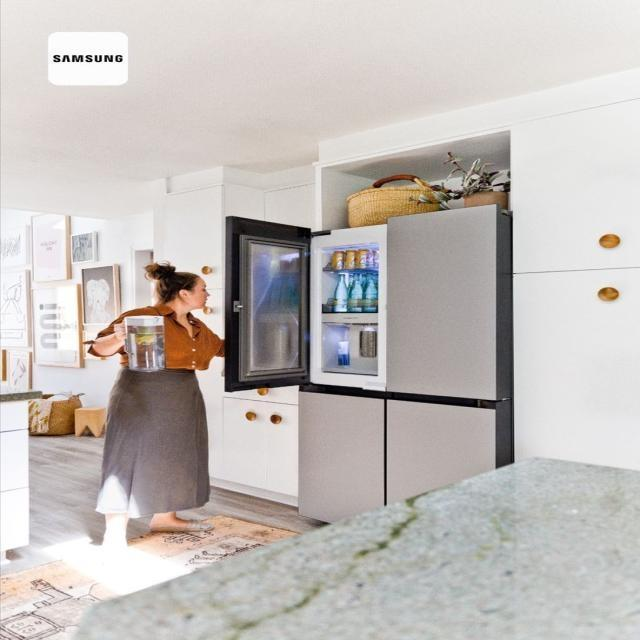obstacle: (220, 214, 501, 530)
person: (86, 260, 224, 548)
